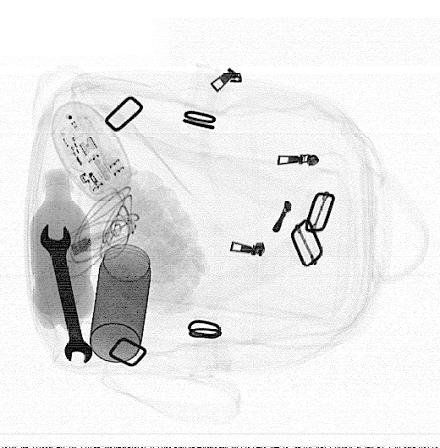Wrench: (38, 218, 94, 365)
